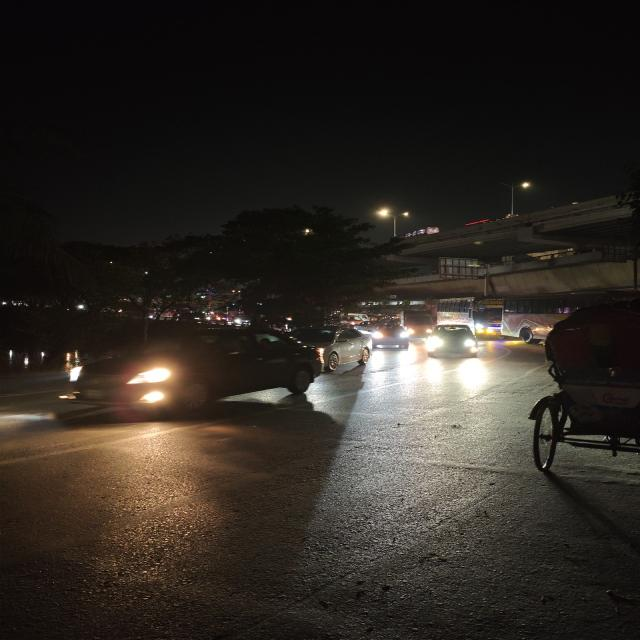bus: (435, 298, 507, 336)
car: (39, 318, 330, 425), (293, 325, 375, 378), (422, 323, 485, 360), (369, 319, 414, 353)
rickshaw: (528, 303, 640, 487)
truck: (401, 308, 434, 338)
